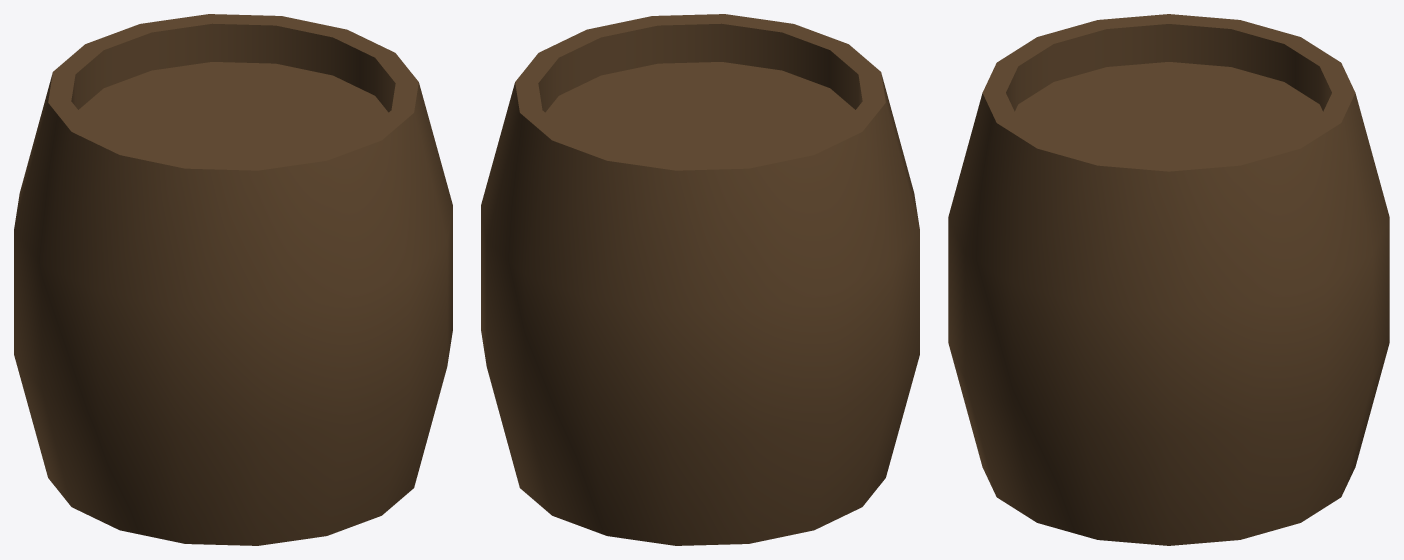
File: Barrel.FBX
3 views of the same model, side by side, from view 1: azimuth 30°, elevation 25°; view 2: azimuth 150°, elevation 25°; view 3: azimuth 270°, elevation 25° (orthographic).
Parts seen in each view (by area): view 1: Barrel; view 2: Barrel; view 3: Barrel.
Boxes of the visible parts, bbox=[...] form: Barrel: bbox=[14, 14, 452, 545]; Barrel: bbox=[481, 14, 919, 545]; Barrel: bbox=[948, 14, 1389, 545].
Size of the model in its own units: 52.08 by 48.72 by 52.08.
